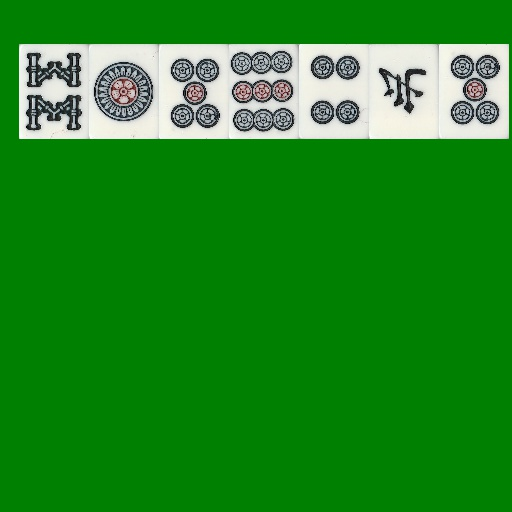1p: (89, 44, 159, 139)
4p: (299, 44, 369, 139)
5p: (159, 44, 229, 139), (439, 44, 509, 139)
8s: (19, 44, 89, 139)
9p: (229, 44, 299, 139)
north: (369, 44, 439, 139)
